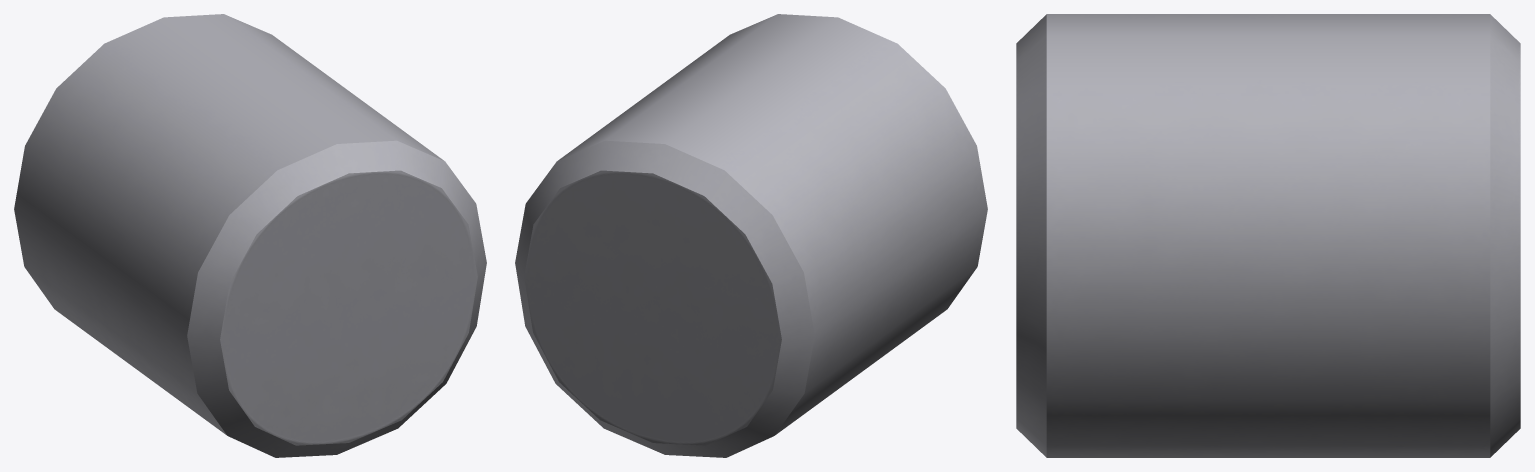
Rendered from dot.FBX.
3 views of the same model, side by side, from view 1: azimuth 30°, elevation 25°; view 2: azimuth 150°, elevation 25°; view 3: azimuth 270°, elevation 25° (orthographic). The views are drawn at different scales.
Visible parts, largest first — view 1: dot; view 2: dot; view 3: dot.
Part boxes in pixels (box(x1,y1,x2,y2)): dot: box(14, 14, 486, 457); dot: box(515, 14, 987, 457); dot: box(1016, 14, 1520, 457).
Bounding box in the file's own units: 29.01 × 28.74 × 33.
